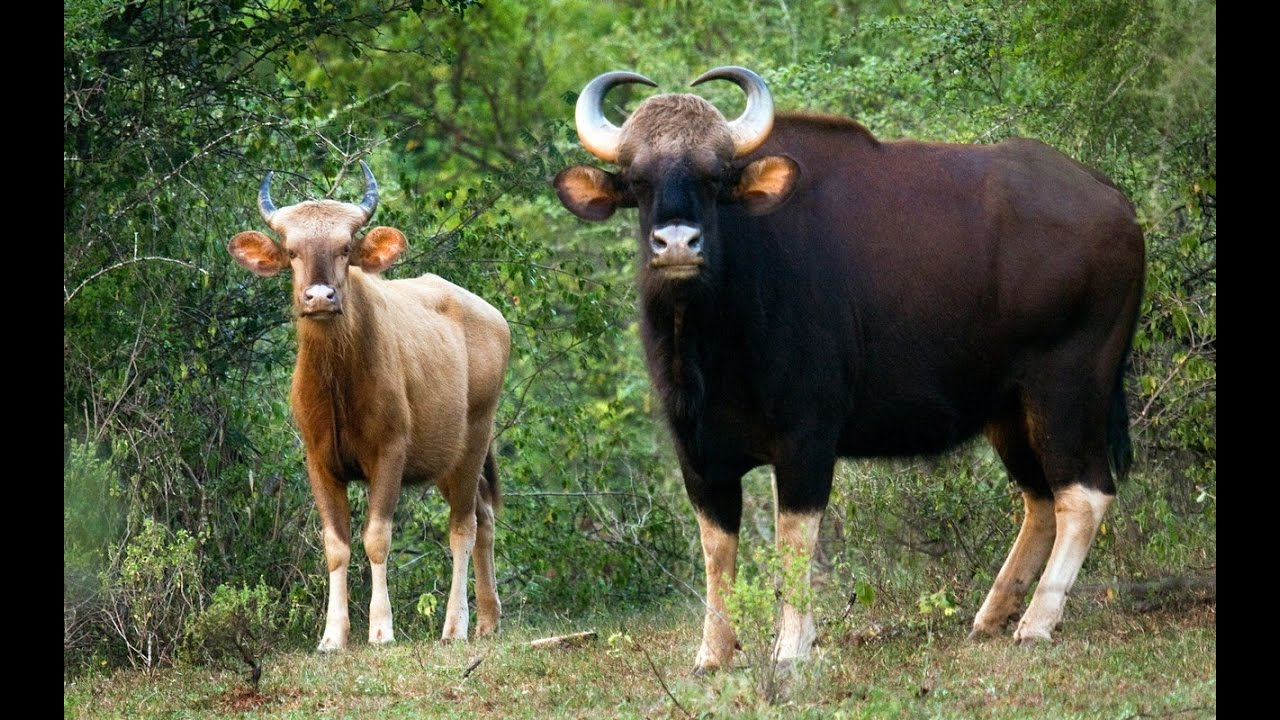bison: (552, 64, 1162, 680), (224, 166, 526, 644)
